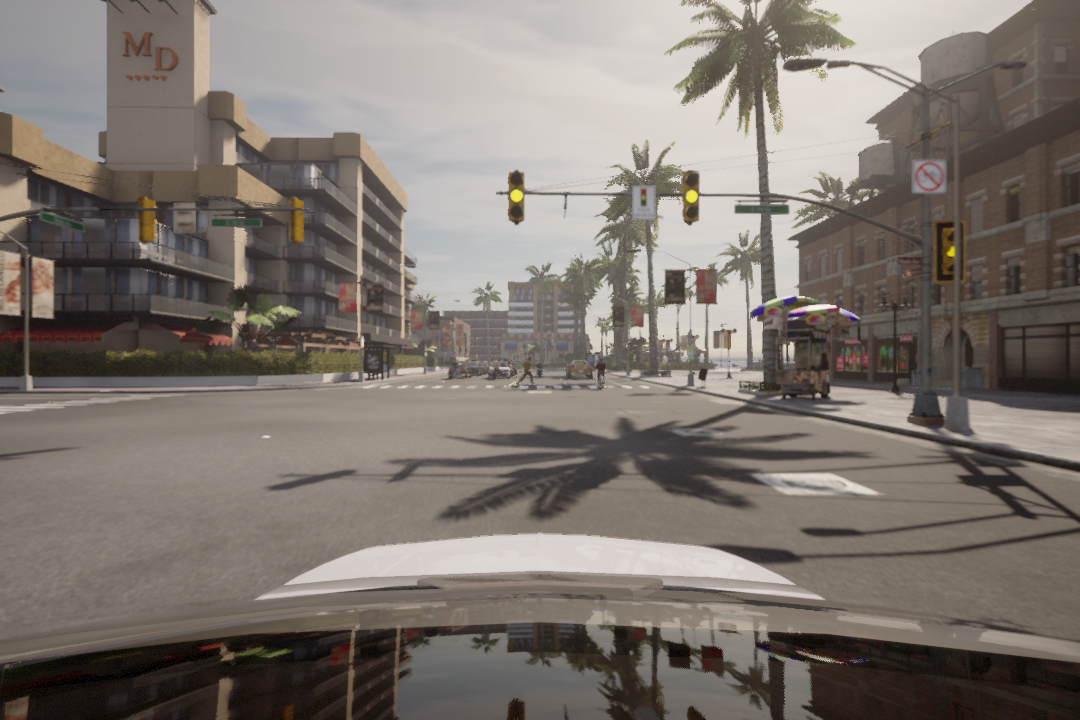TrafficLight: (934, 222, 969, 281), (509, 169, 525, 223), (681, 171, 696, 227)
TrafficSign: (911, 158, 949, 194)
